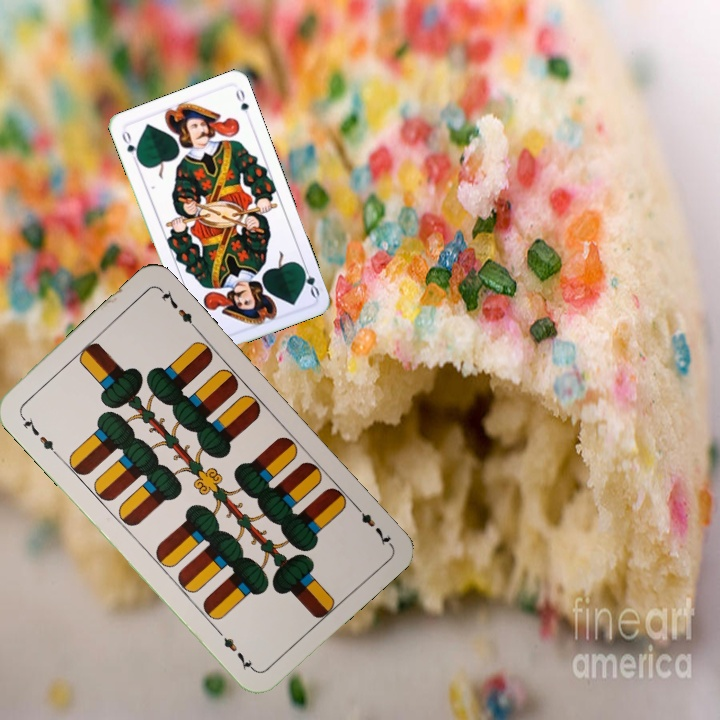E7: (349, 499, 394, 548), (16, 411, 61, 459)
GO: (296, 260, 322, 300), (118, 126, 142, 166)
